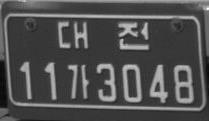0: (121, 63, 141, 102)
1: (41, 61, 63, 101), (14, 61, 37, 99)
3: (95, 63, 117, 103)
4: (148, 63, 168, 102)
8: (173, 64, 194, 104)
가: (67, 64, 90, 99)
대전_D: (57, 21, 149, 50)
